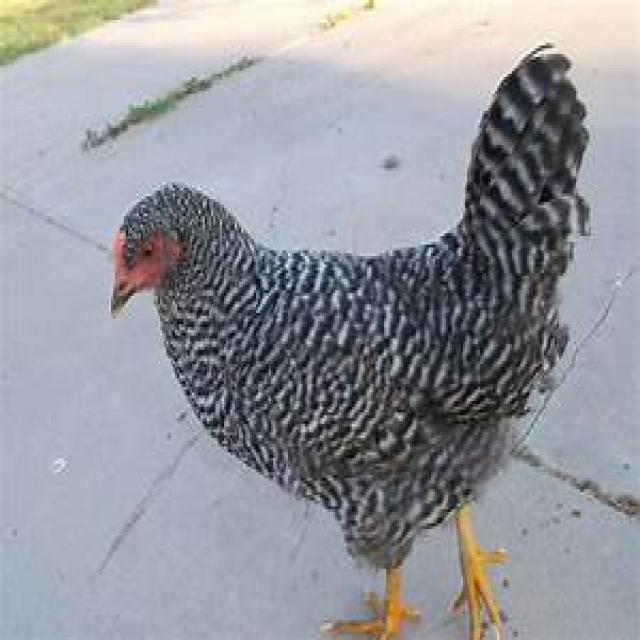hen: (111, 46, 591, 640)
